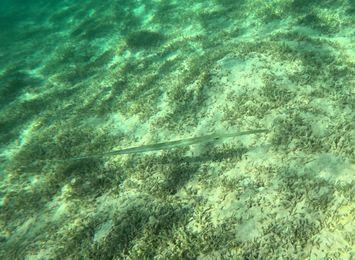Fistularia commersonii: (62, 102, 310, 176)
